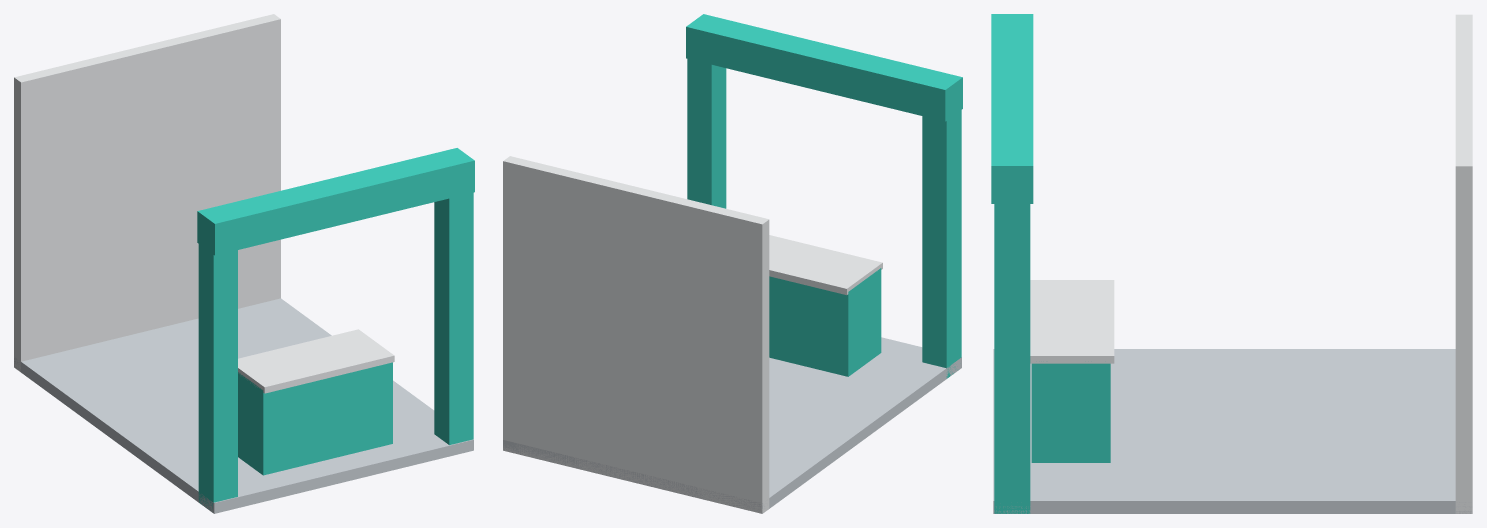
3 views of the same model, side by side, from view 1: azimuth 30°, elevation 25°; view 2: azimuth 150°, elevation 25°; view 3: azimuth 270°, elevation 25° (orthographic). The views are drawn at different scales.
Parts seen in each view (by area): view 1: Exhibition Booth Concept; view 2: Exhibition Booth Concept; view 3: Exhibition Booth Concept.
Part boxes in pixels (x1,y1,x2,y2): Exhibition Booth Concept: (14,14,474,513); Exhibition Booth Concept: (503,14,962,513); Exhibition Booth Concept: (991,14,1472,513).
Bounding box in the file's own units: 3 × 3.2 × 4.02.
